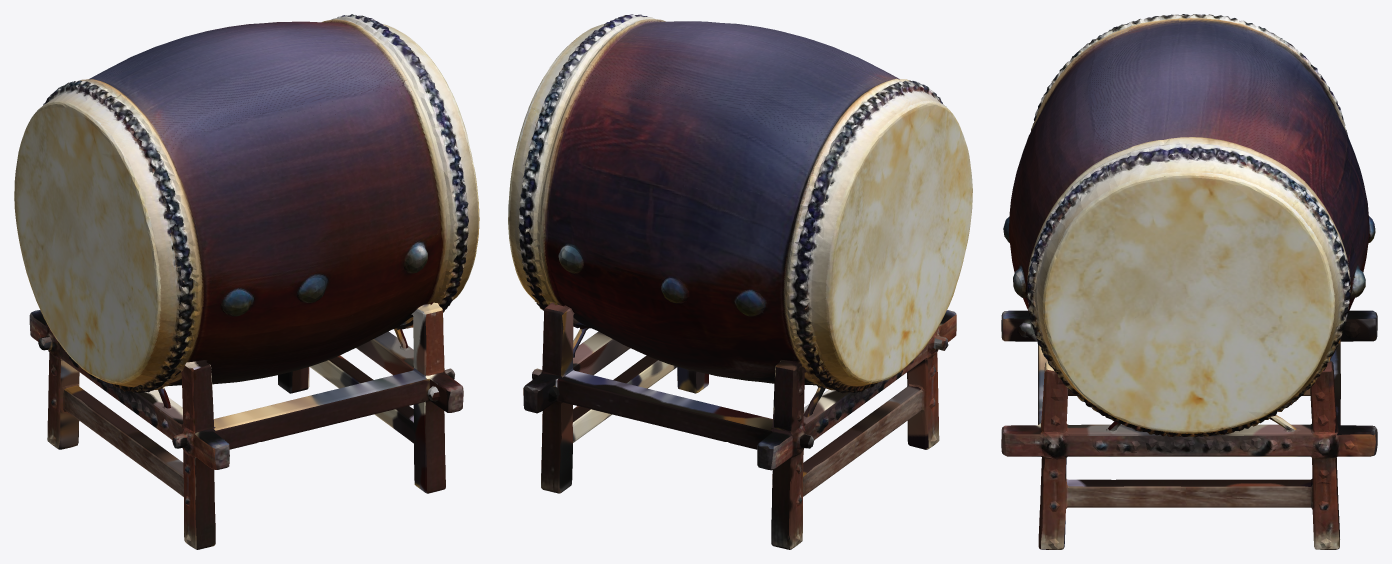
File: traveler_env_coast_shinomen_watch_drum_00001_.glb
The picture shows the model from 3 angles, left to right: view 1: azimuth 30°, elevation 25°; view 2: azimuth 150°, elevation 25°; view 3: azimuth 270°, elevation 25°; orthographic projection.
Visible parts, largest first — view 1: temp_mesh.ply; view 2: temp_mesh.ply; view 3: temp_mesh.ply.
Boxes of the visible parts, bbox=[...] form: temp_mesh.ply: bbox=[14, 14, 479, 549]; temp_mesh.ply: bbox=[508, 14, 972, 549]; temp_mesh.ply: bbox=[1001, 14, 1377, 549].
Bounding box in the file's own units: 1.57 × 1.96 × 1.57.
1 material, 1 textured.
